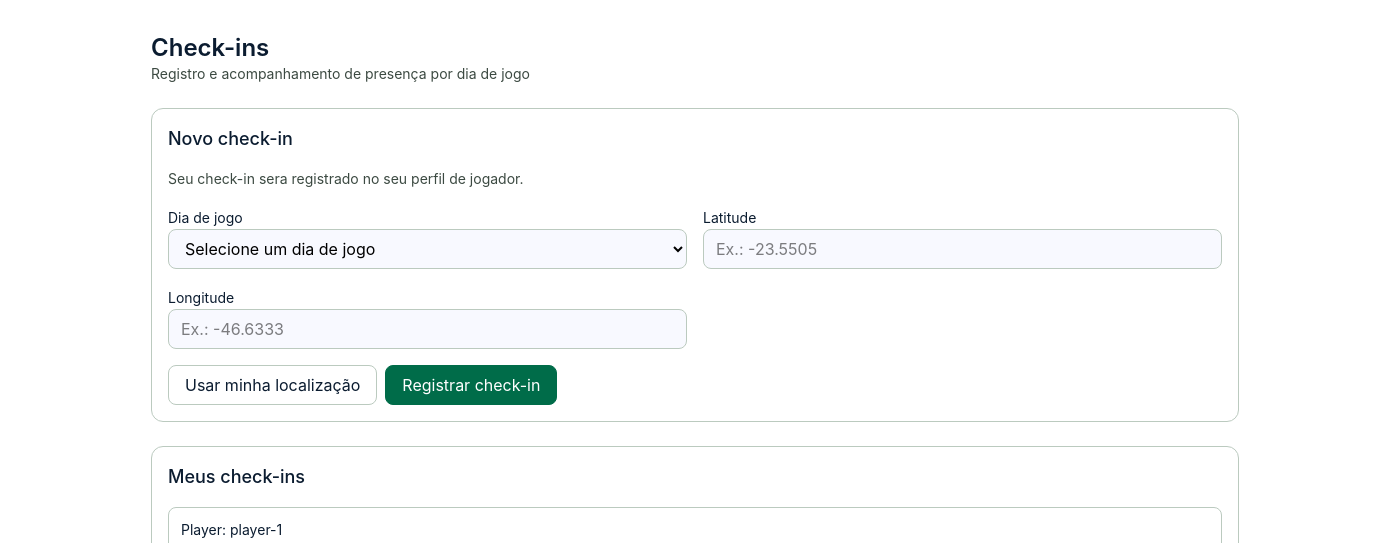
Test case: CheckinsPage › deve exibir feedback de erro quando criação falha
The image size is (1378, 543).
Select "05/05/2026 - Confirmed" in the dropdown labelled "Dia de jogo" at [428, 249], box [168,229,687,269]
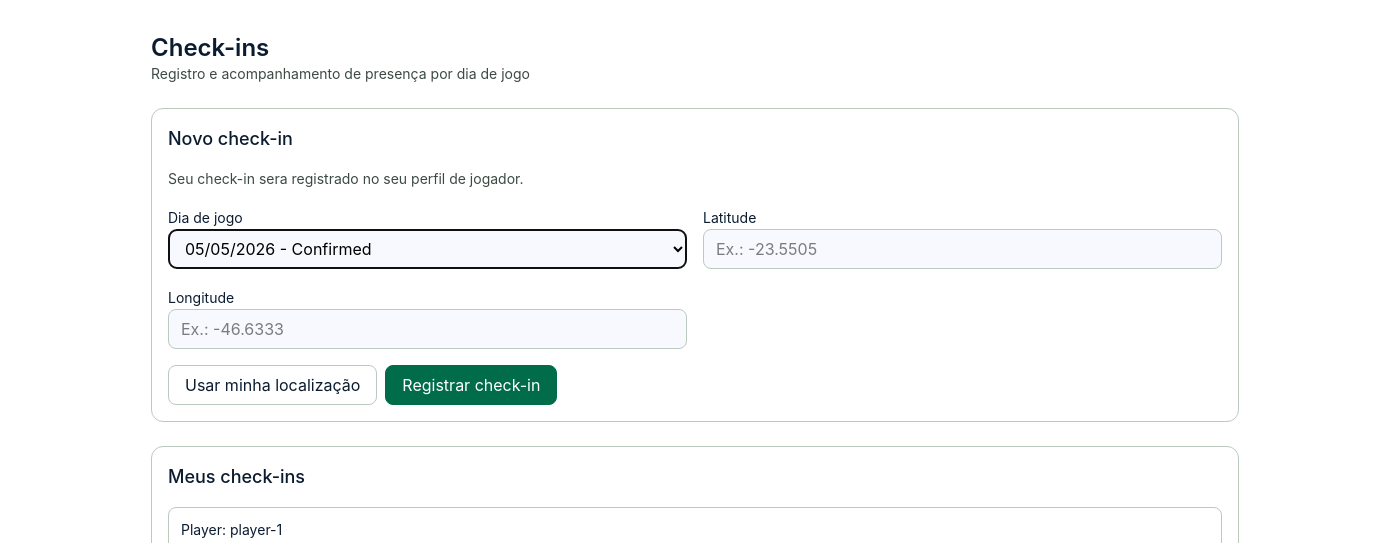
Type "-23.5505" into the number field labelled "Latitude" at [962, 249], box [703,229,1222,269]
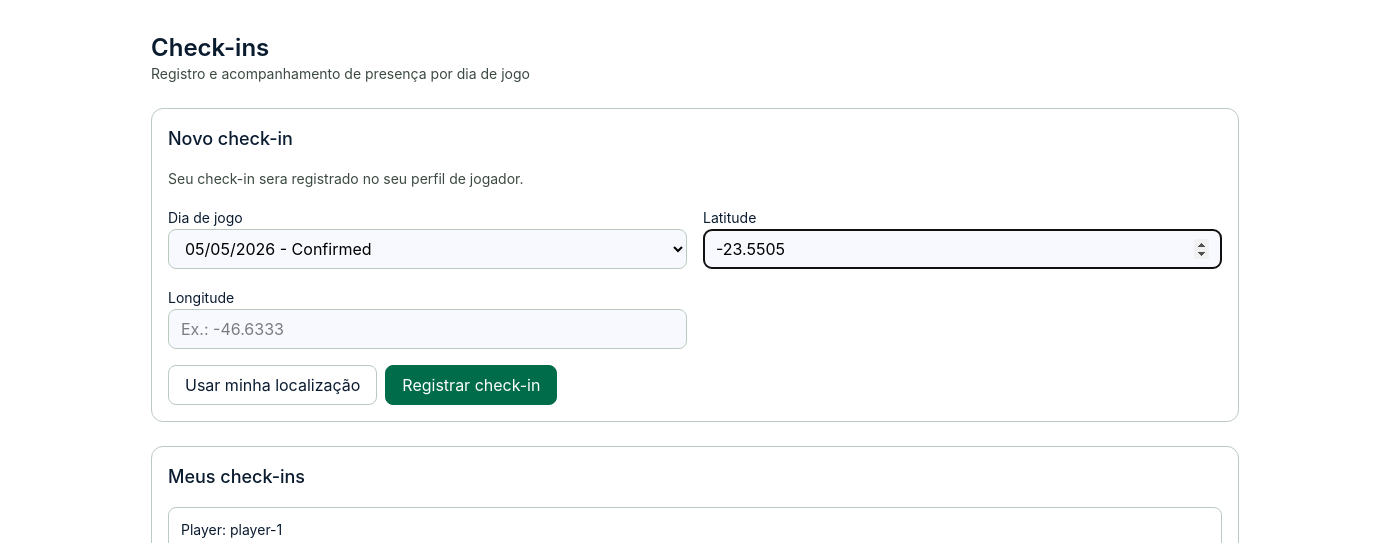
Type "-46.6333" into the number field labelled "Longitude" at [428, 329], box [168,309,687,349]
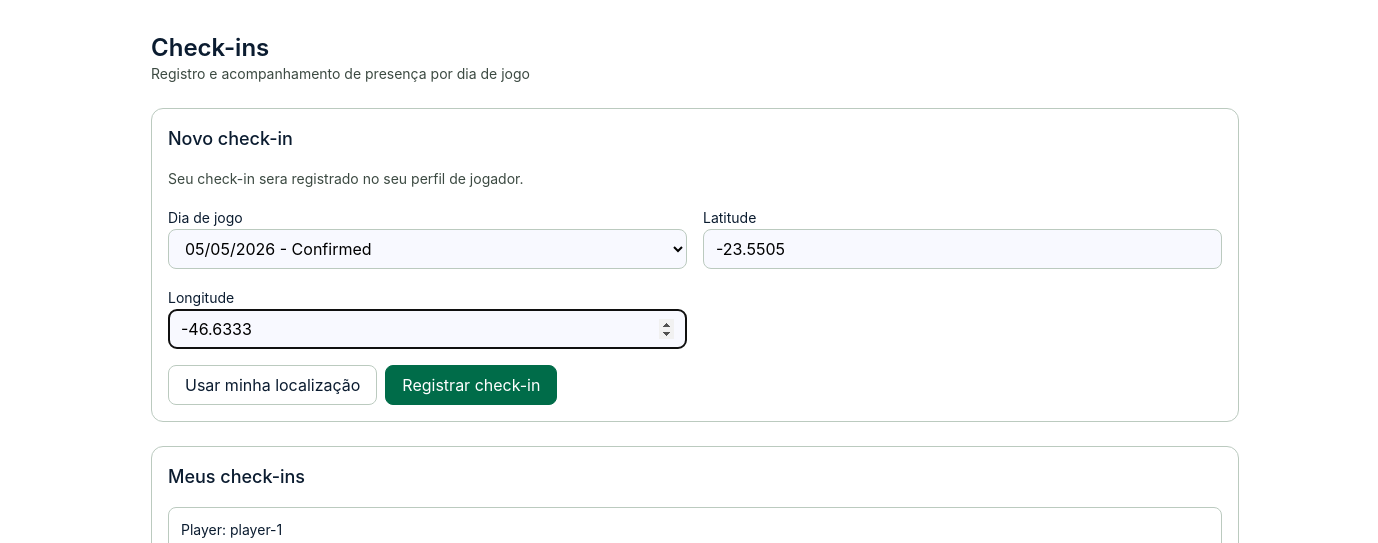
Click the button "Registrar check-in" at [471, 385], box [385,365,557,405]
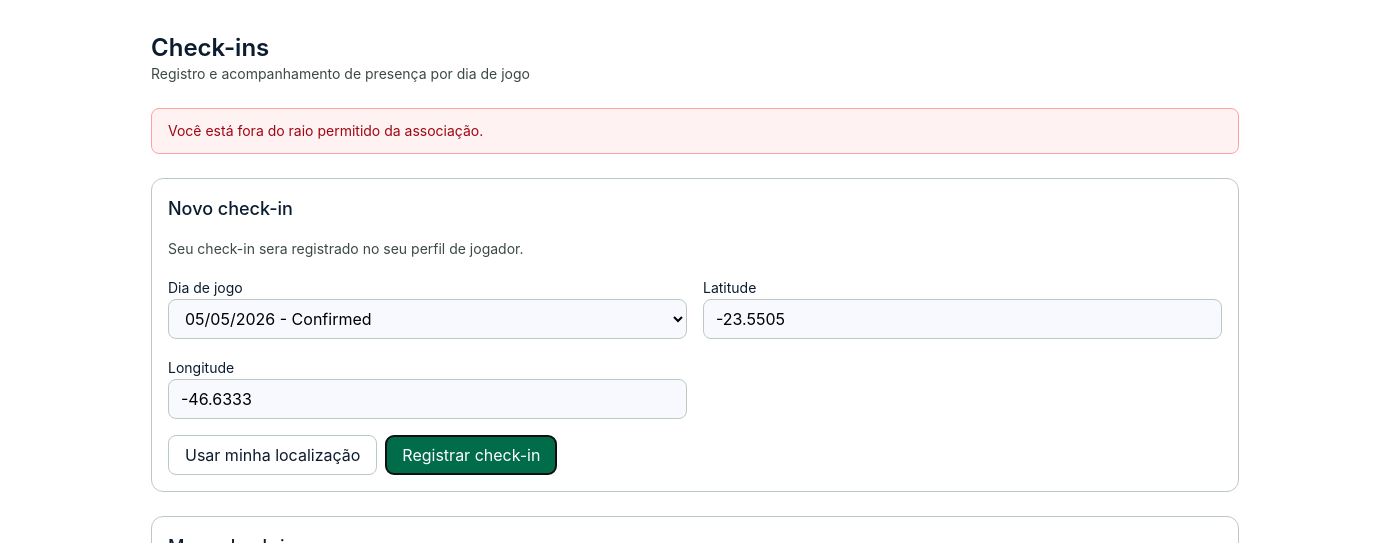
Expected: the text "Você está fora do raio permitido da associação." is shown, [151,108,1239,154]
